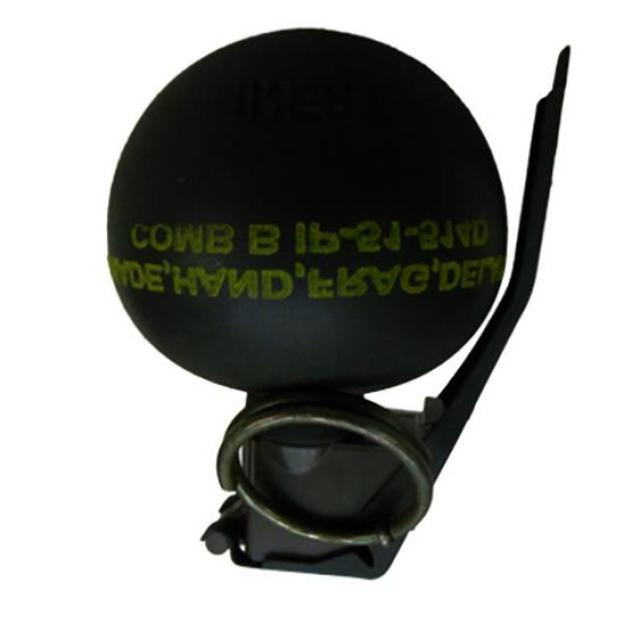grenade: (108, 29, 574, 582)
